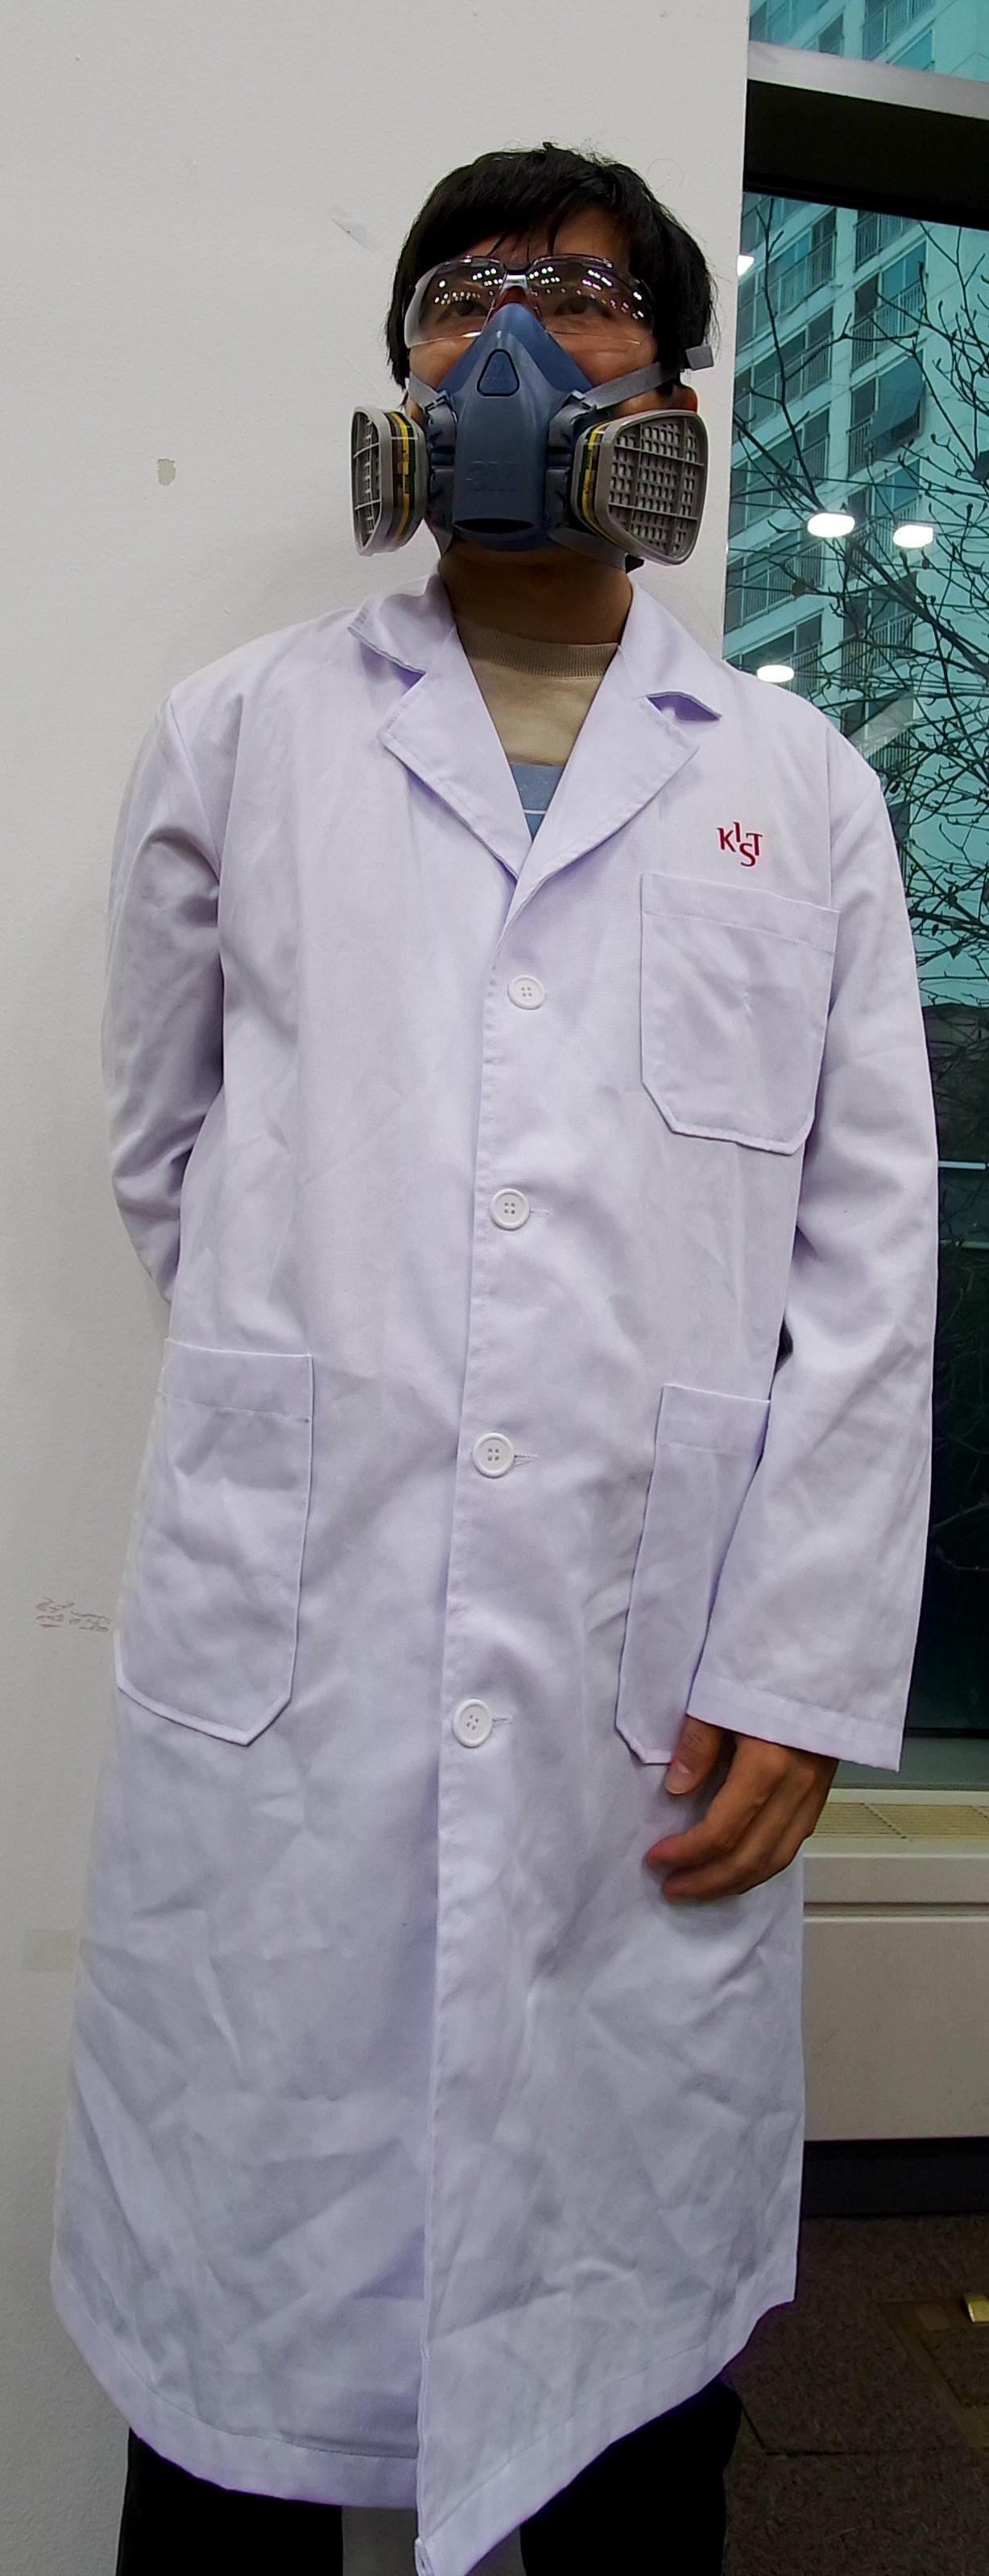lab_coat: (110, 588, 713, 2491)
